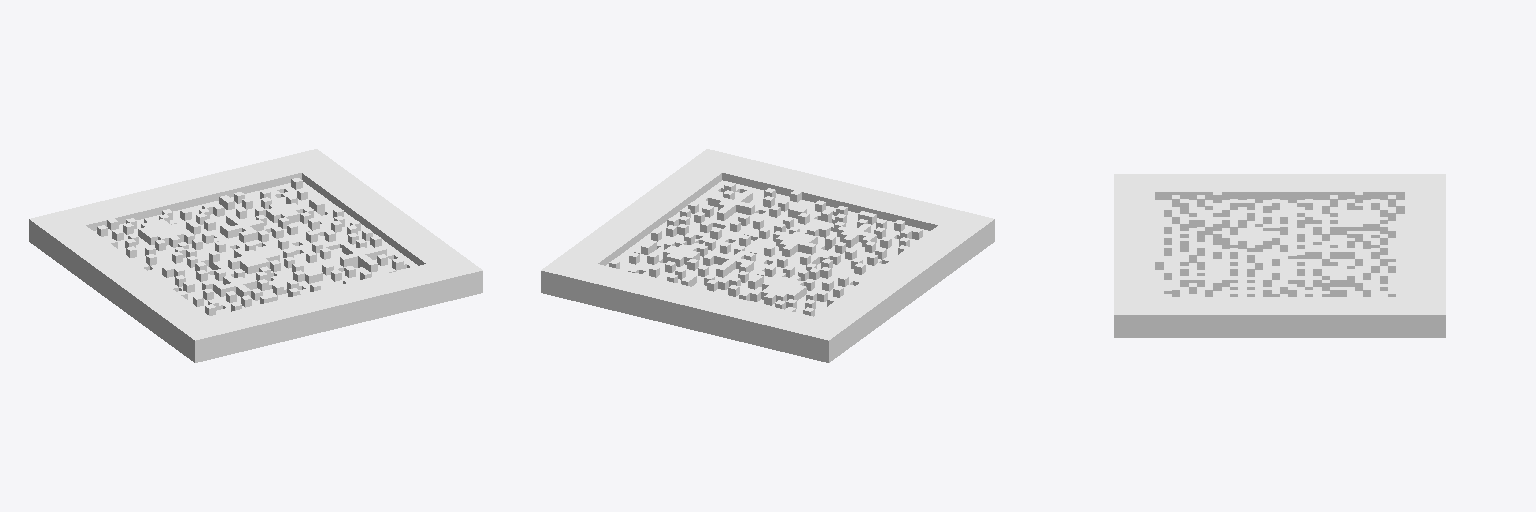
The model's file is flower_cube.obj.
3 renders of one model, left to right at view 1: azimuth 30°, elevation 25°; view 2: azimuth 150°, elevation 25°; view 3: azimuth 270°, elevation 25°, orthographic.
Parts seen in each view (by area): view 1: object 1; view 2: object 1; view 3: object 1.
Boxes of the visible parts, x1=… form: object 1: x1=29, y1=149, x2=482, y2=362; object 1: x1=541, y1=149, x2=994, y2=362; object 1: x1=1114, y1=174, x2=1445, y2=337.
Bounding box in the file's own units: 4 × 0.3 × 4.